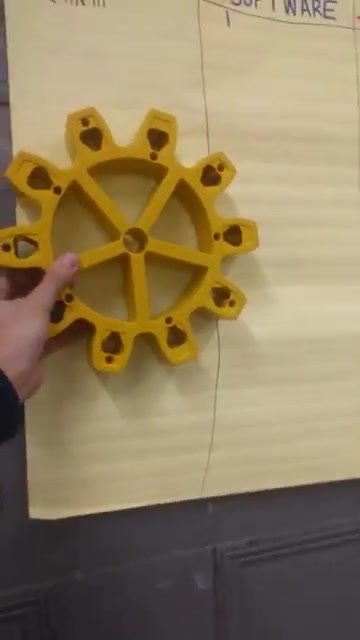gear: (1, 98, 257, 366)
